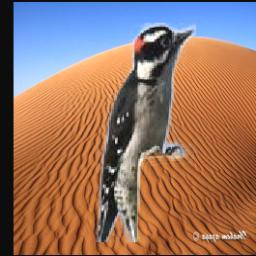Woodpecker: (96, 23, 195, 242)
